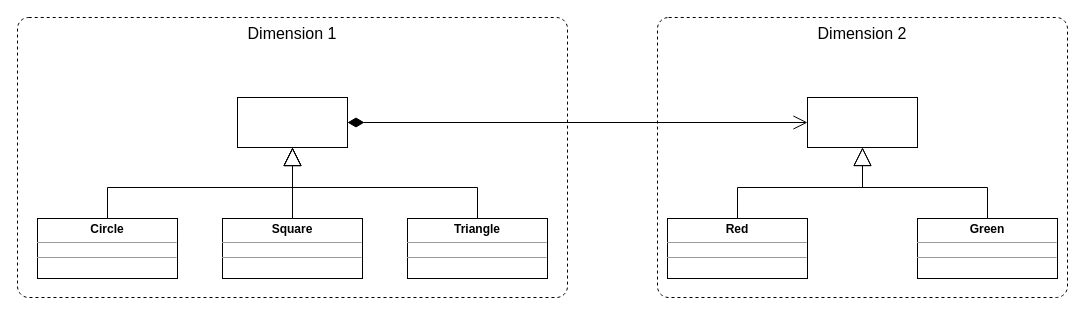
Some shapes in this 1085 by 315 pixel diagram are drawn without their labels. Here are the shapes that lost their labels. From the top down, the centre of each, then its label:
At (292,122): "Shape".
At (862,122): "Color".
